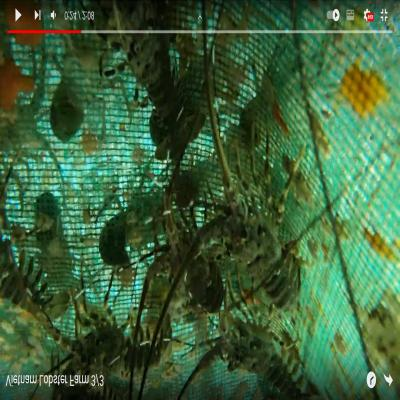lobster: (216, 162, 302, 297), (210, 319, 301, 393), (68, 310, 170, 376)
